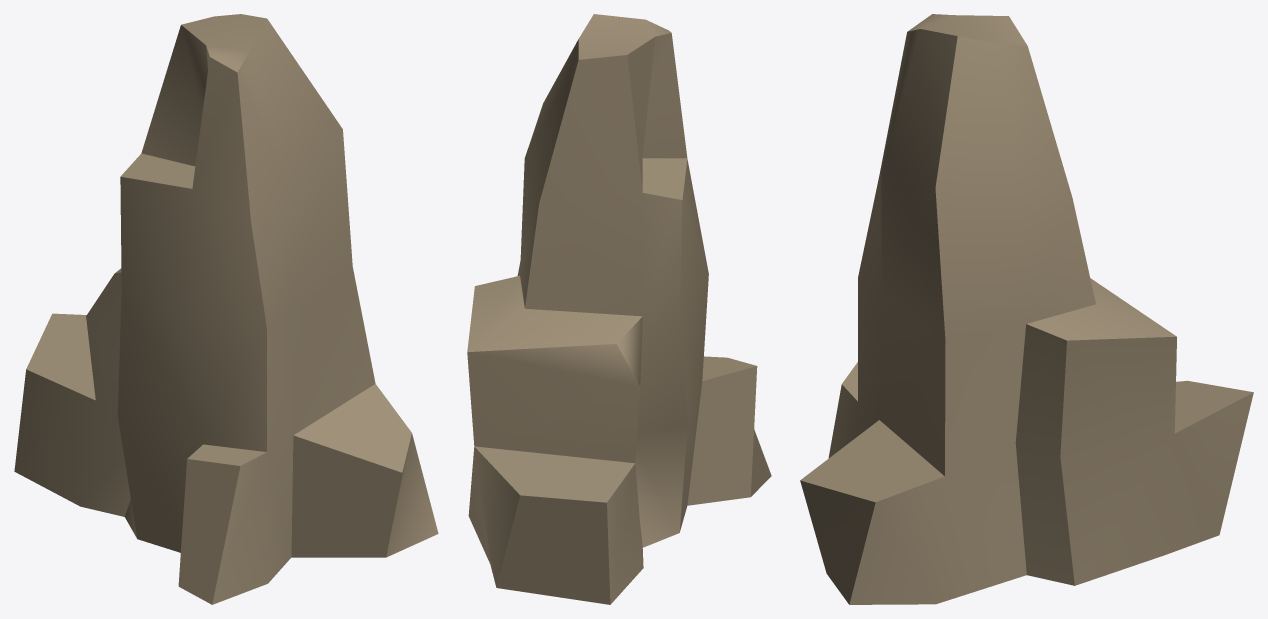
The model's file is rock_tall_lrg.fbx.
The picture shows the model from 3 angles, left to right: view 1: azimuth 30°, elevation 25°; view 2: azimuth 150°, elevation 25°; view 3: azimuth 270°, elevation 25°; orthographic projection. The views are drawn at different scales.
Parts seen in each view (by area): view 1: rock_tall_lrg; view 2: rock_tall_lrg; view 3: rock_tall_lrg.
Part boxes in pixels (x1,y1,x2,y2): rock_tall_lrg: [14, 14, 438, 604]; rock_tall_lrg: [467, 14, 771, 604]; rock_tall_lrg: [800, 14, 1253, 604].
Bounding box in the file's own units: 67.55 × 130 × 104.
